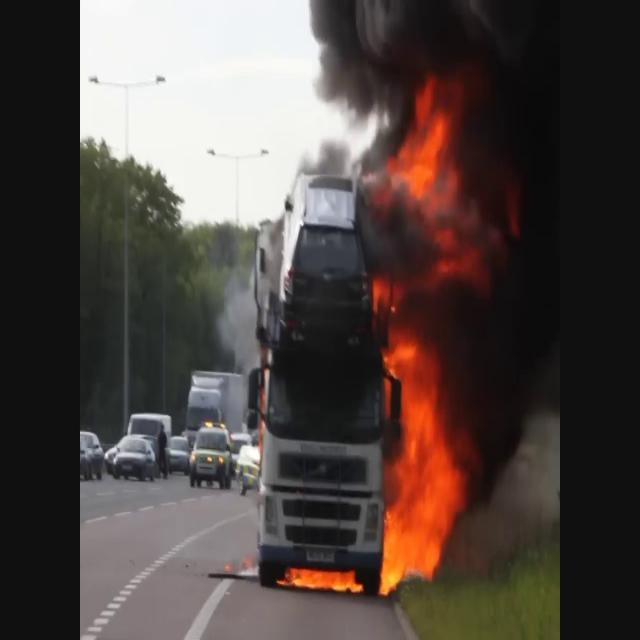Fire: (375, 315, 469, 600), (282, 558, 364, 596)
Smoke: (446, 2, 558, 468), (296, 0, 556, 186), (212, 239, 266, 414)
